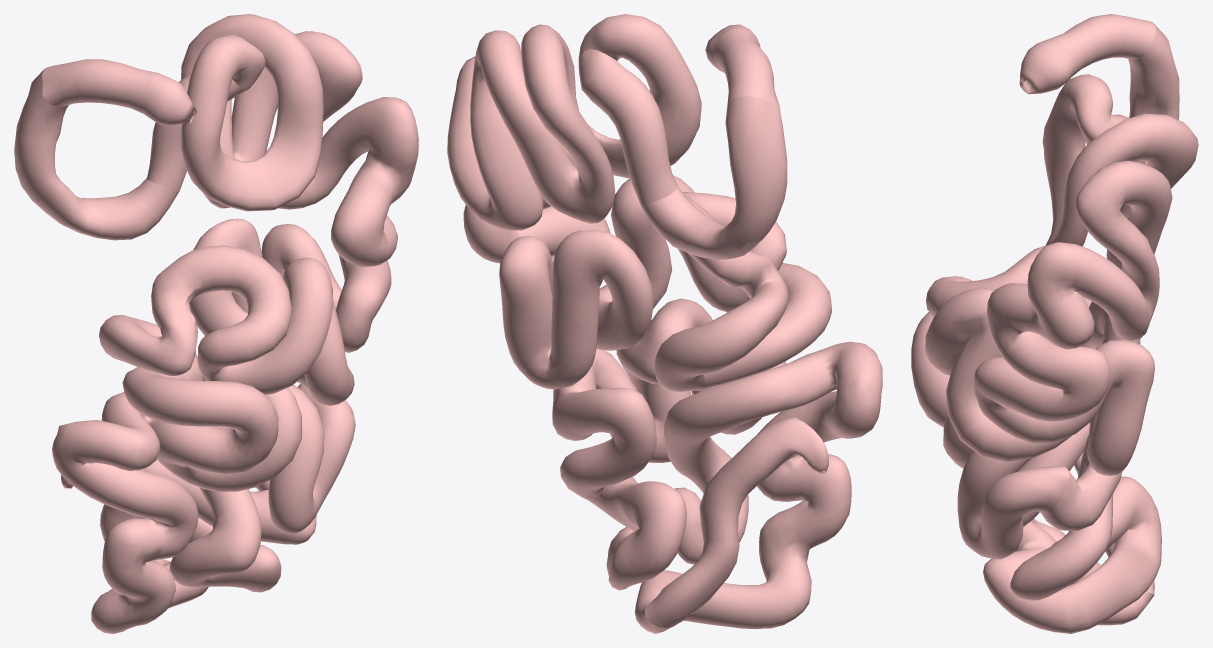
Rendered from hra-small-intestine-male-v1.glb.
The picture shows the model from 3 angles, left to right: view 1: azimuth 30°, elevation 25°; view 2: azimuth 150°, elevation 25°; view 3: azimuth 270°, elevation 25°; orthographic projection. The views are drawn at different scales.
Parts seen in each view (by area): view 1: VH_M_jejunum, VH_M_ileum, VH_M_duodenum_horizonal, VH_M_duodenum_superior, VH_M_duodenum_descending, VH_M_duodenum_ascending, VH_M_duodenal_ampulla, VH_M_ileum_terminal; view 2: VH_M_jejunum, VH_M_ileum, VH_M_ileum_terminal, VH_M_duodenum_descending, VH_M_duodenum_ascending, VH_M_duodenum_horizonal, VH_M_duodenum_superior; view 3: VH_M_jejunum, VH_M_ileum, VH_M_duodenum_superior, VH_M_duodenum_descending, VH_M_duodenal_ampulla.
Boxes of the visible parts, <box> form: VH_M_jejunum: <box>99,14,418,405</box>; VH_M_ileum: <box>52,367,355,633</box>; VH_M_duodenum_horizonal: <box>33,178,178,240</box>; VH_M_duodenum_superior: <box>42,59,157,113</box>; VH_M_duodenum_descending: <box>14,69,70,202</box>; VH_M_duodenum_ascending: <box>147,73,246,191</box>; VH_M_duodenal_ampulla: <box>143,73,196,125</box>; VH_M_ileum_terminal: <box>61,469,157,561</box>; VH_M_jejunum: <box>447,14,788,392</box>; VH_M_ileum: <box>552,263,882,633</box>; VH_M_ileum_terminal: <box>644,417,828,627</box>; VH_M_duodenum_descending: <box>725,96,787,249</box>; VH_M_duodenum_ascending: <box>578,49,678,205</box>; VH_M_duodenum_horizonal: <box>641,187,762,259</box>; VH_M_duodenum_superior: <box>713,29,779,105</box>; VH_M_jejunum: <box>925,74,1198,475</box>; VH_M_ileum: <box>911,312,1161,633</box>; VH_M_duodenum_superior: <box>1052,14,1155,77</box>; VH_M_duodenum_descending: <box>1128,23,1179,119</box>; VH_M_duodenal_ampulla: <box>1019,38,1074,94</box>.
Bounding box in the file's own units: 0.188 × 0.2654 × 0.1222.
